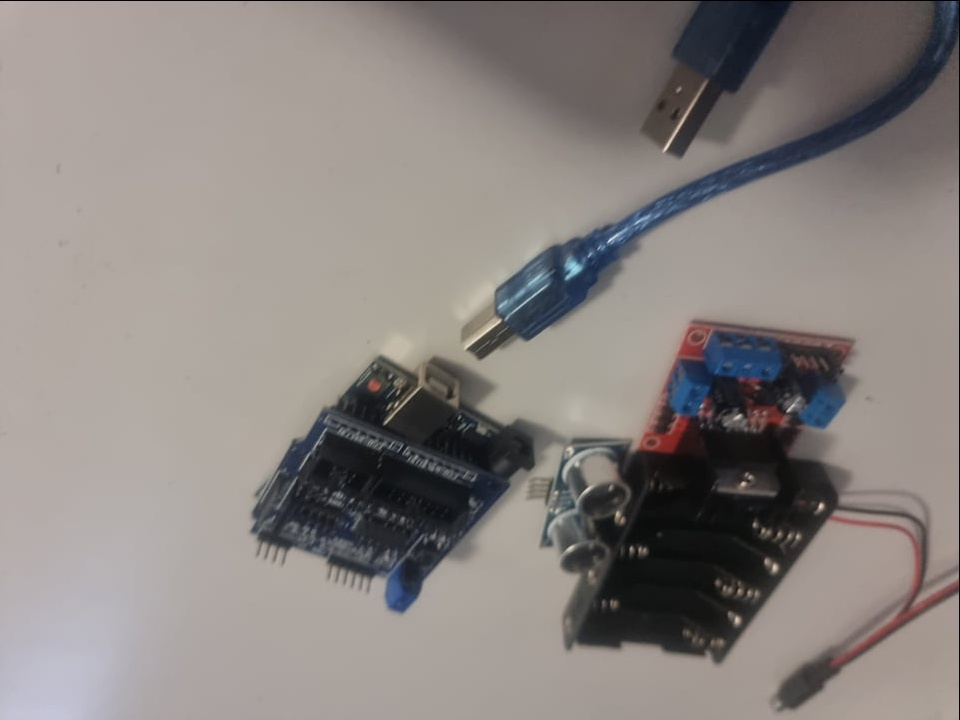5V EXPANSION: (251, 424, 500, 610)
BATTERY BOX: (561, 469, 844, 669)
MOTOR: (645, 314, 856, 506)
SENSOR: (548, 437, 628, 576)
UNO R3: (349, 356, 544, 471)
